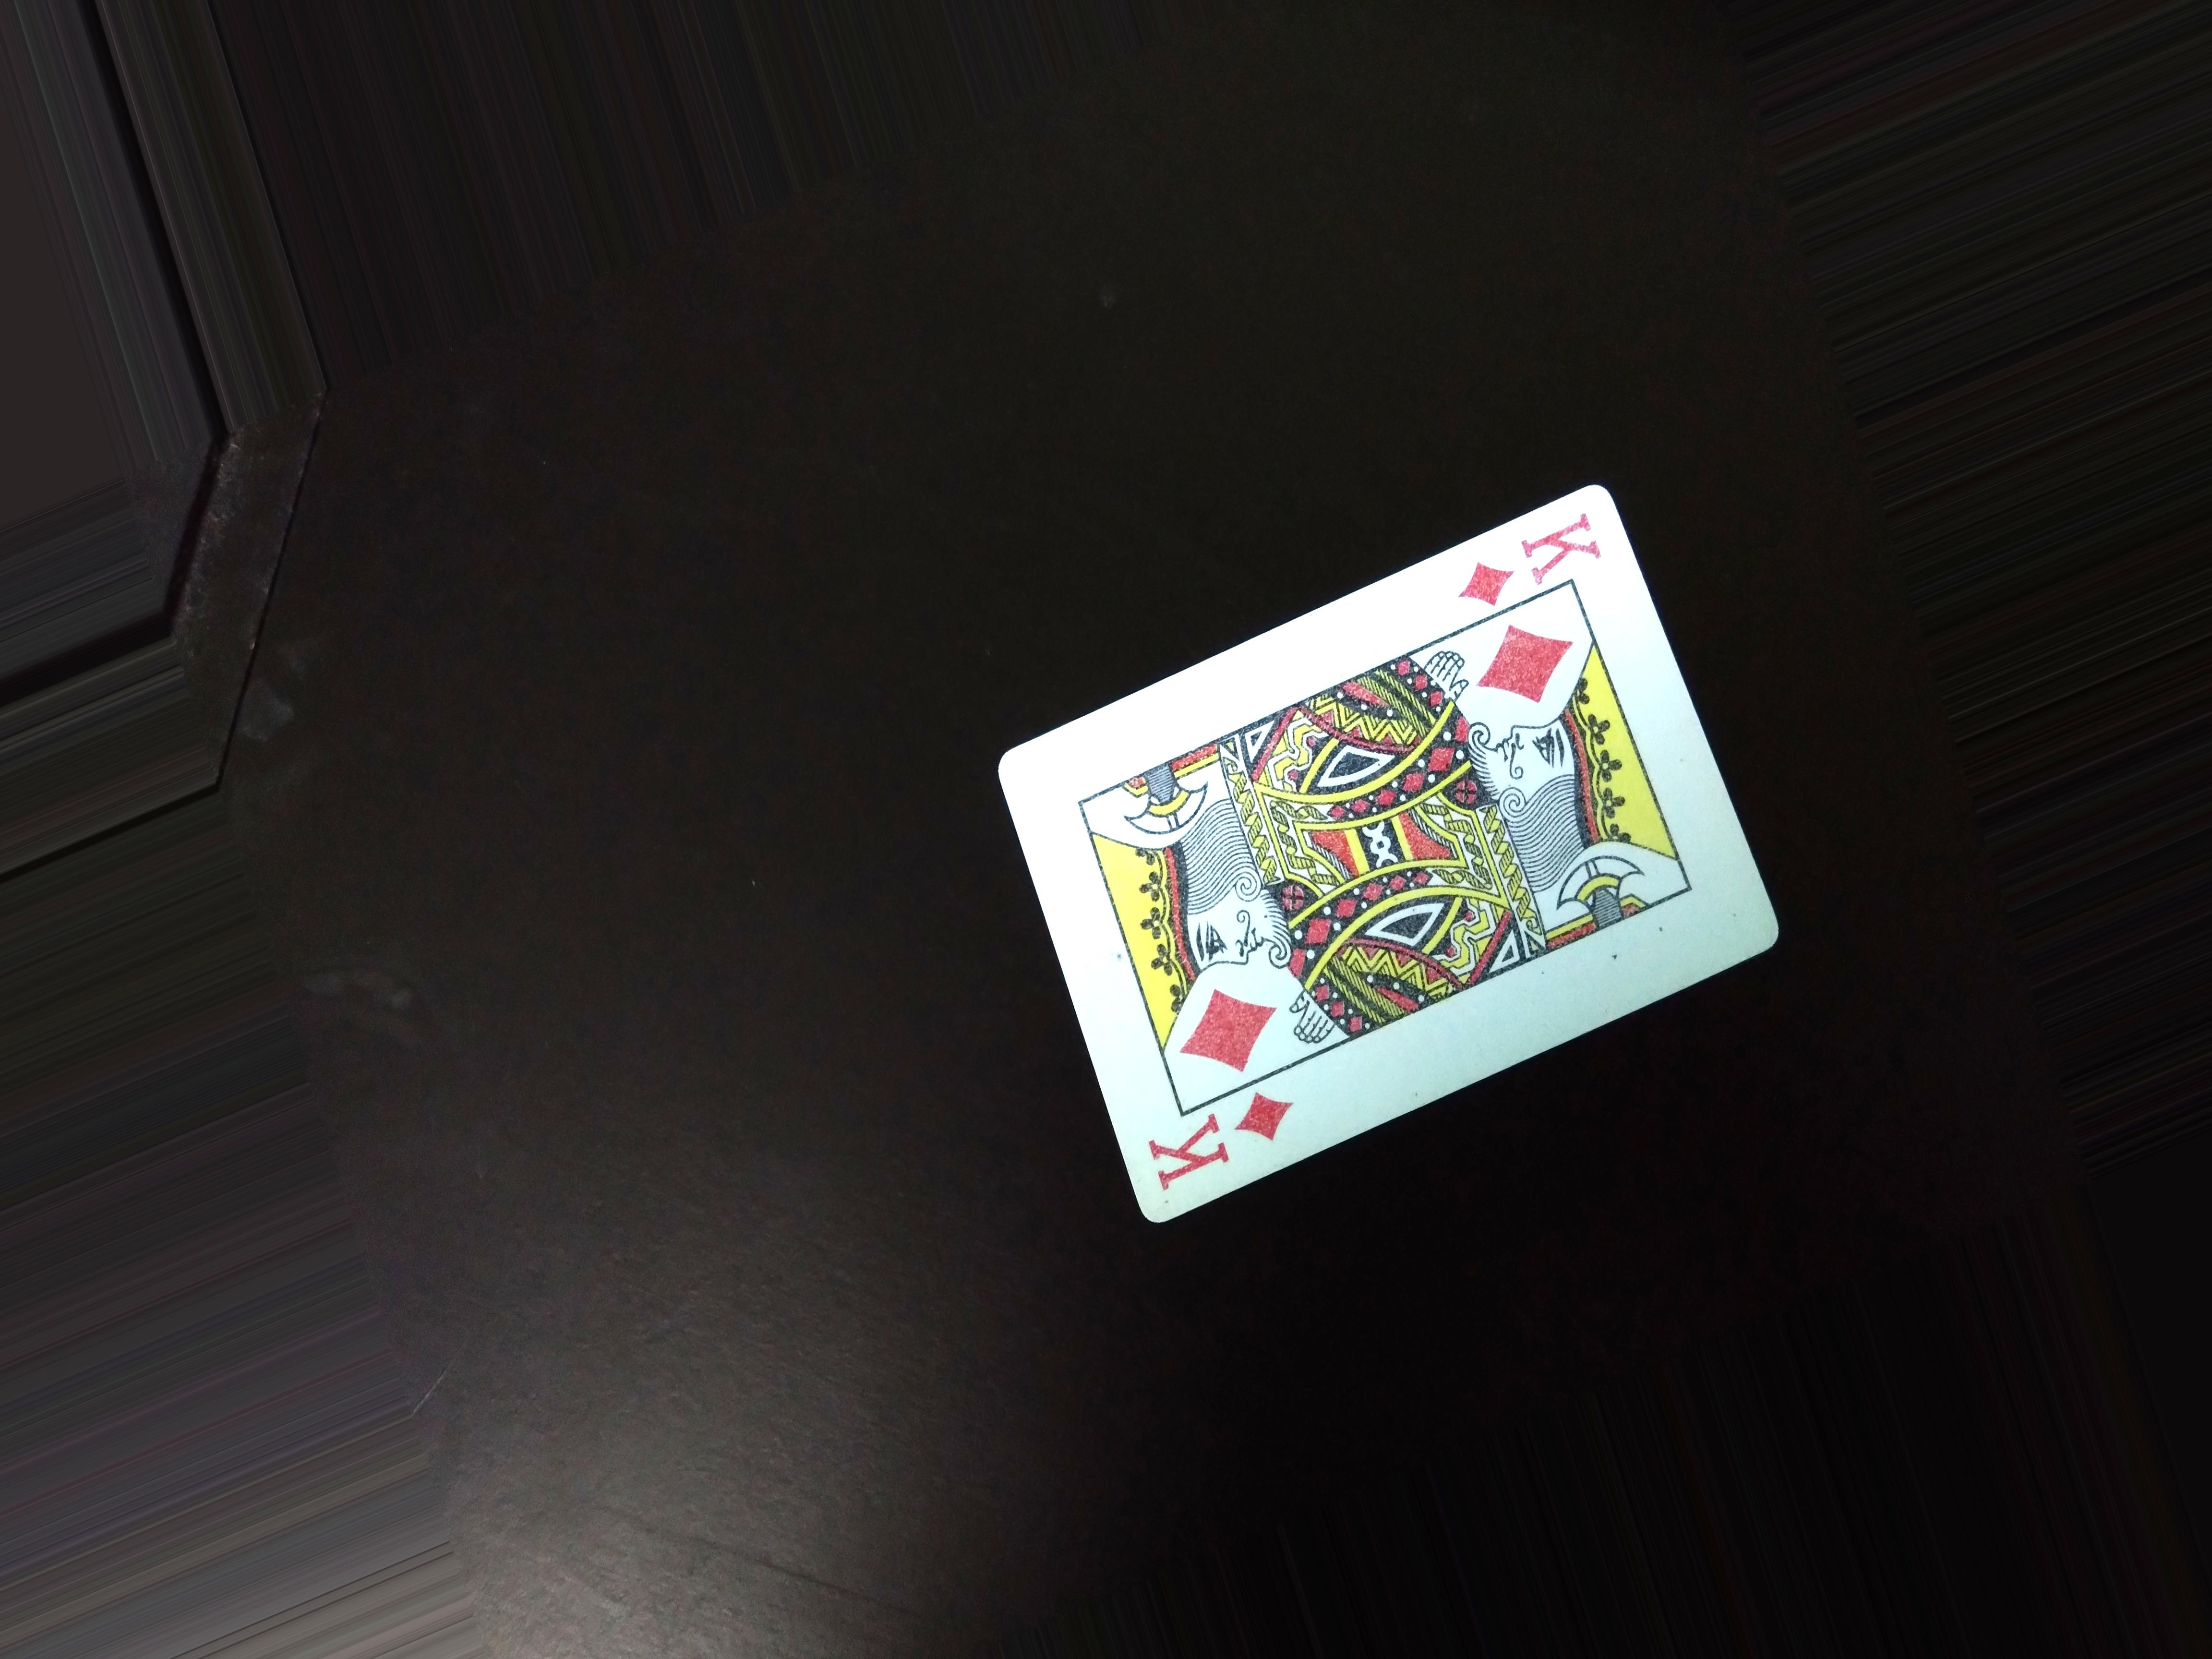KD: (1449, 512, 1604, 613)
